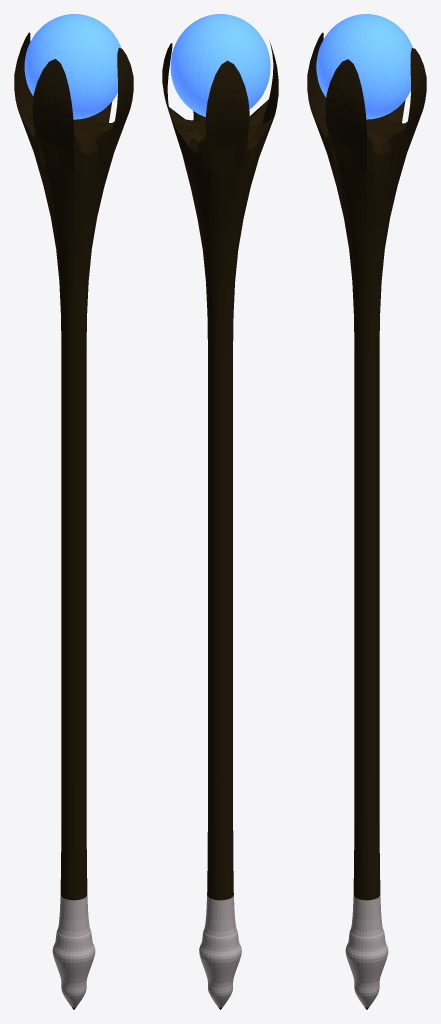
Rendered from baston.fbx.
3 views of the same model, side by side, from view 1: azimuth 90°, elevation 25°; view 2: azimuth 210°, elevation 25°; view 3: azimuth 270°, elevation 25° (orthographic).
Visible parts, largest first — view 1: Circle; view 2: Circle; view 3: Circle.
Part boxes in pixels (left/top/right/bottom): Circle: left=14, top=14, right=133, bottom=1009; Circle: left=162, top=14, right=278, bottom=1009; Circle: left=307, top=14, right=426, bottom=1009.
Size of the model in its own units: 2.52 by 23.01 by 2.52.
